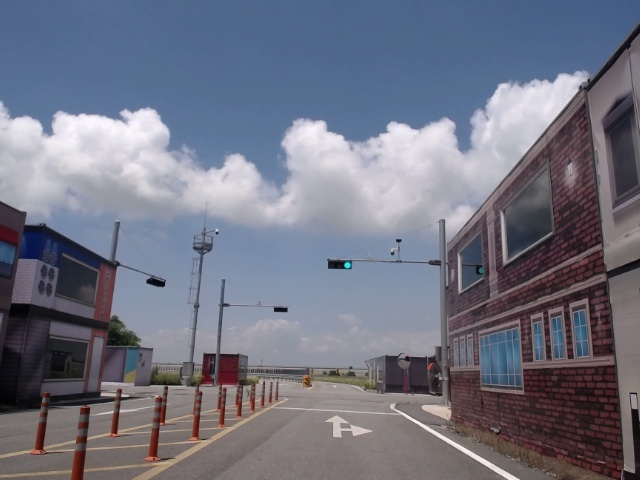green_3: (328, 260, 351, 269)
